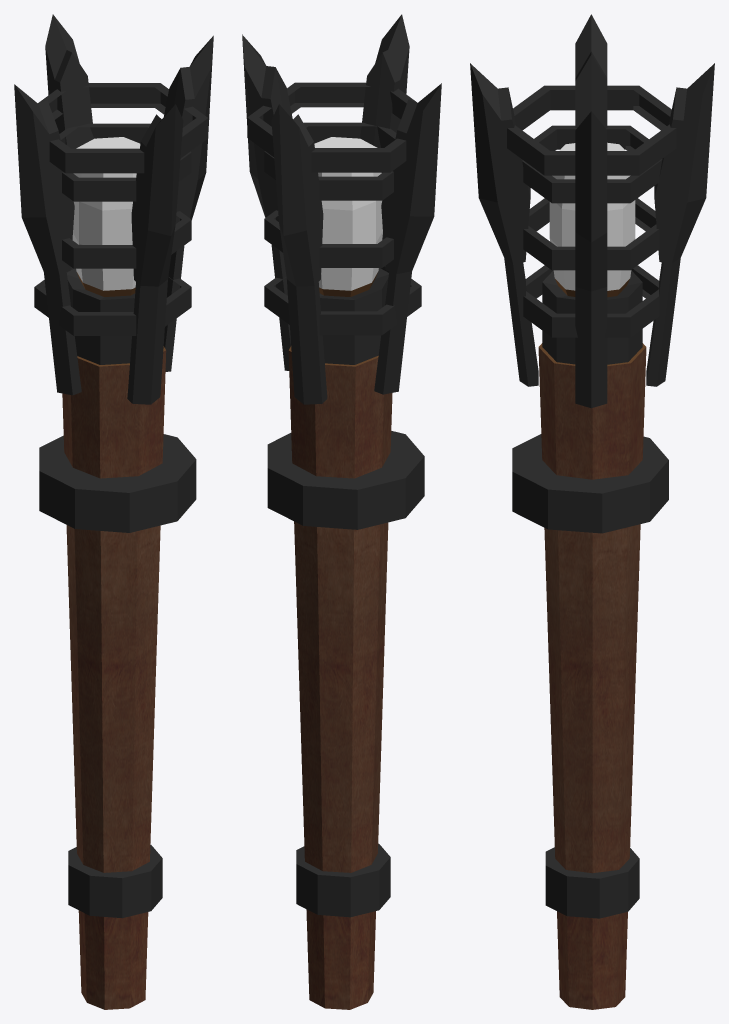
The model's file is torch.fbx.
3 renders of one model, left to right at view 1: azimuth 30°, elevation 25°; view 2: azimuth 150°, elevation 25°; view 3: azimuth 270°, elevation 25°, orthographic.
Visible parts, largest first — view 1: Cube.012; view 2: Cube.012; view 3: Cube.012.
Boxes of the visible parts, <box> form: Cube.012: <box>14,14,213,1009</box>; Cube.012: <box>242,14,441,1009</box>; Cube.012: <box>470,14,714,1009</box>.
Size of the model in its own units: 25.4 by 114 by 27.05.
Materials: 4 (1 with a texture image).
